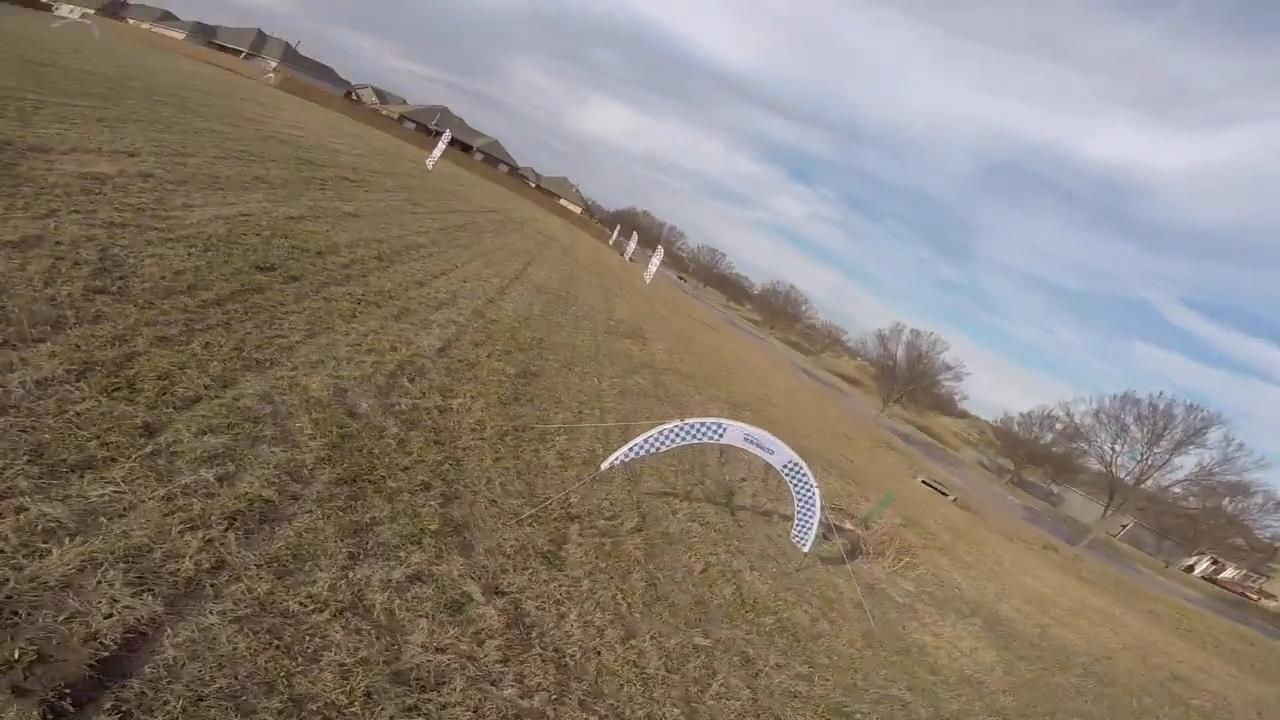gate: (596, 417, 823, 557)
